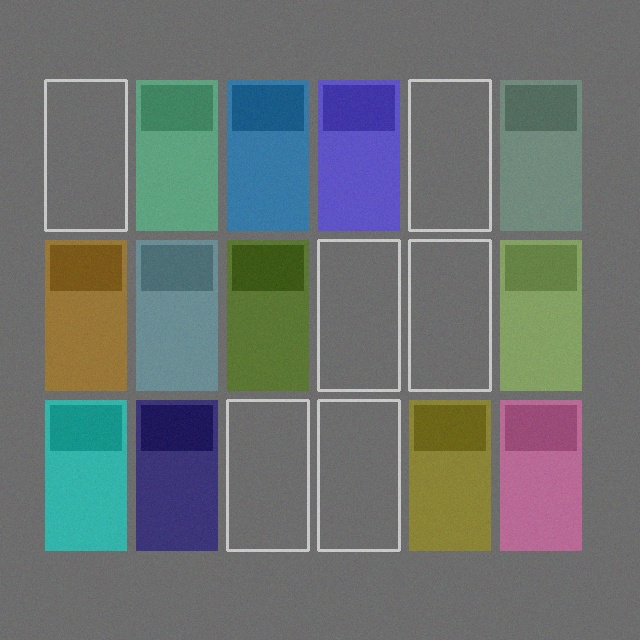space-empty: (45, 80, 126, 230), (409, 80, 490, 230), (318, 240, 399, 390), (409, 240, 490, 390), (227, 400, 308, 550), (318, 400, 399, 550)
space-occupied: (136, 80, 217, 230), (227, 80, 308, 230), (318, 80, 399, 230), (500, 80, 581, 230), (45, 240, 126, 390), (136, 240, 217, 390), (227, 240, 308, 390), (500, 240, 581, 390), (45, 400, 126, 550), (136, 400, 217, 550), (409, 400, 490, 550), (500, 400, 581, 550)
